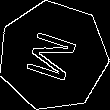M_E: (22, 26, 85, 86)
